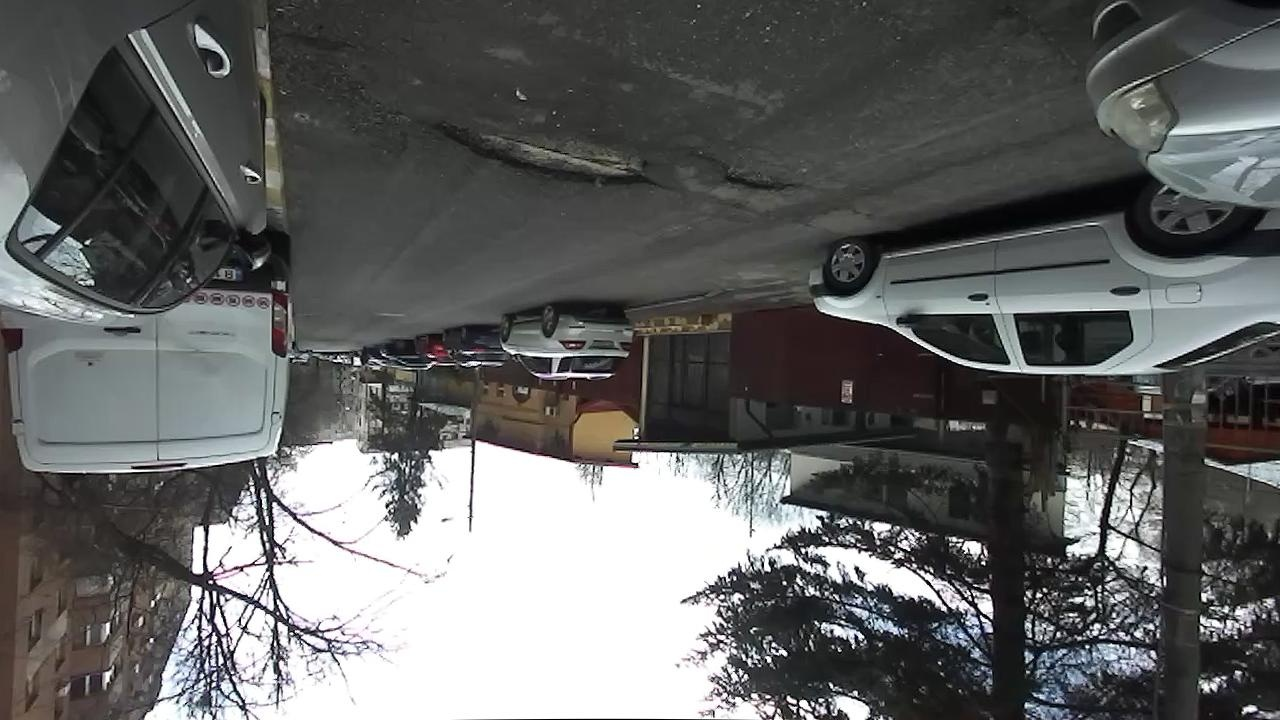pothole: (420, 113, 659, 191), (684, 144, 803, 196)
